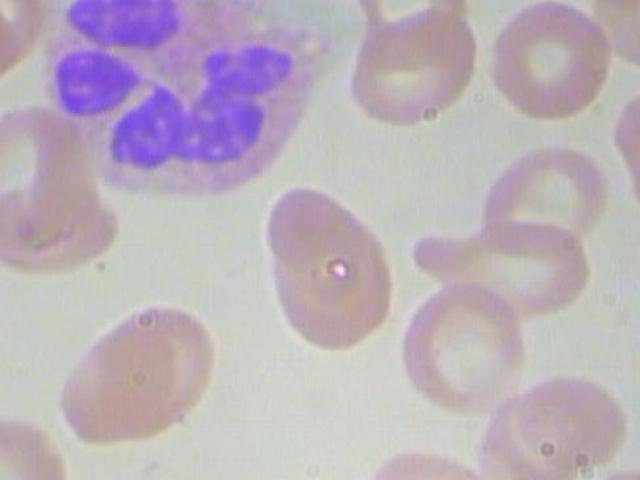RBC: (54, 291, 225, 448), (250, 174, 395, 348), (407, 224, 630, 318), (464, 143, 621, 265), (402, 283, 535, 410), (486, 0, 623, 123), (511, 372, 640, 475), (344, 0, 472, 67), (0, 0, 56, 75), (0, 269, 11, 401)
WBC: (37, 0, 337, 202)
